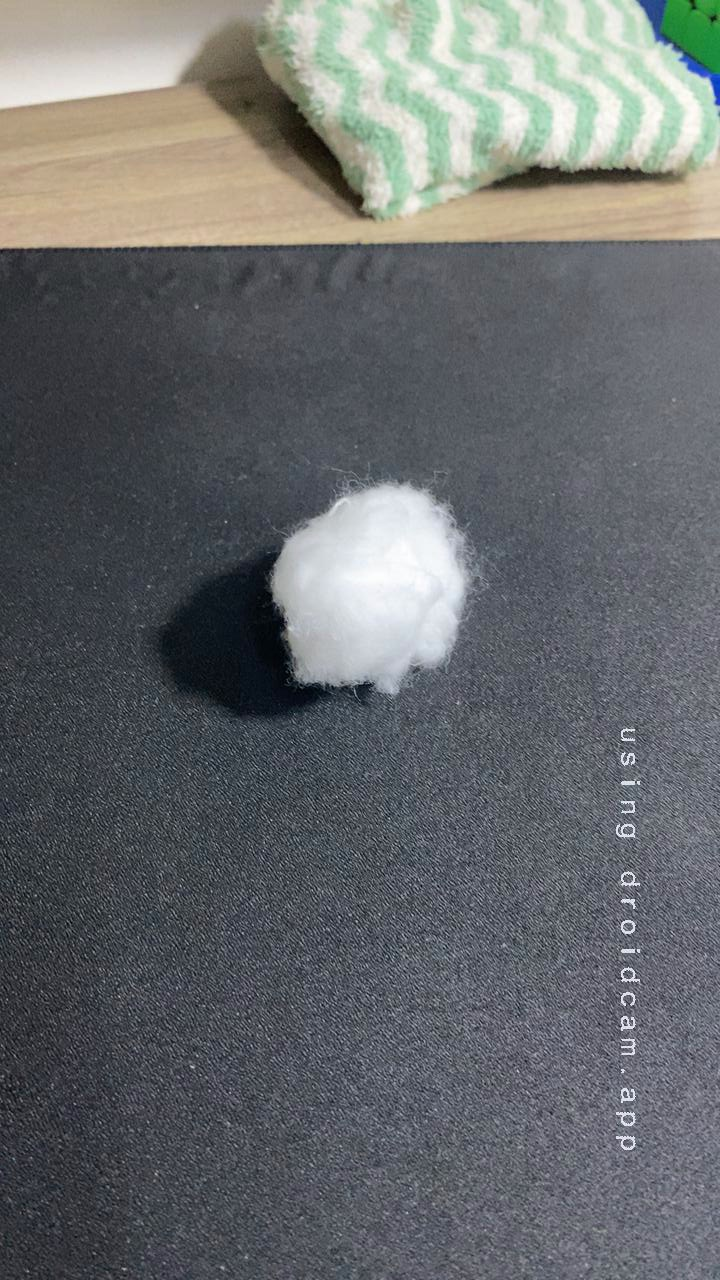cotton: (243, 462, 496, 709)
